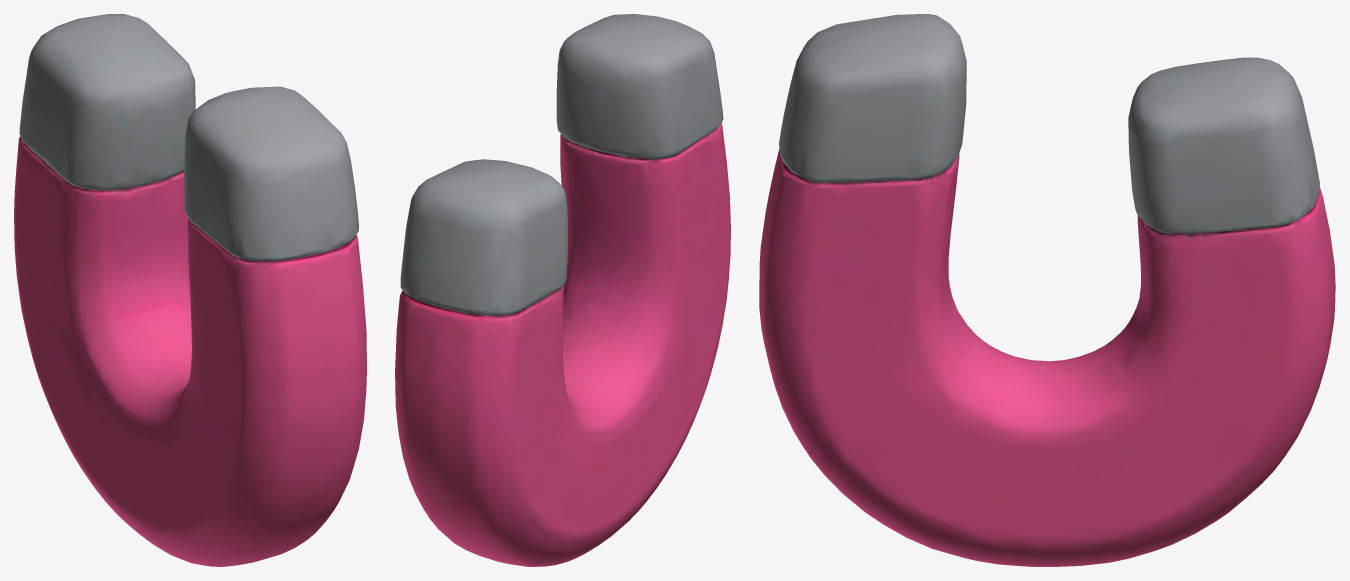
Rendered from magnet.glb.
3 views of the same model, side by side, from view 1: azimuth 30°, elevation 25°; view 2: azimuth 150°, elevation 25°; view 3: azimuth 270°, elevation 25° (orthographic). The views are drawn at different scales.
Parts seen in each view (by area): view 1: tripo_node_5dc9eaff-8681-47a2-bbc4-77b9e28199d0; view 2: tripo_node_5dc9eaff-8681-47a2-bbc4-77b9e28199d0; view 3: tripo_node_5dc9eaff-8681-47a2-bbc4-77b9e28199d0.
Boxes of the visible parts, x1=… form: tripo_node_5dc9eaff-8681-47a2-bbc4-77b9e28199d0: x1=14, y1=14, x2=366, y2=566; tripo_node_5dc9eaff-8681-47a2-bbc4-77b9e28199d0: x1=395, y1=14, x2=730, y2=566; tripo_node_5dc9eaff-8681-47a2-bbc4-77b9e28199d0: x1=759, y1=14, x2=1335, y2=566.
Size of the model in its own units: 0.2606 by 0.9795 by 0.9723.
1 material, 1 textured.
